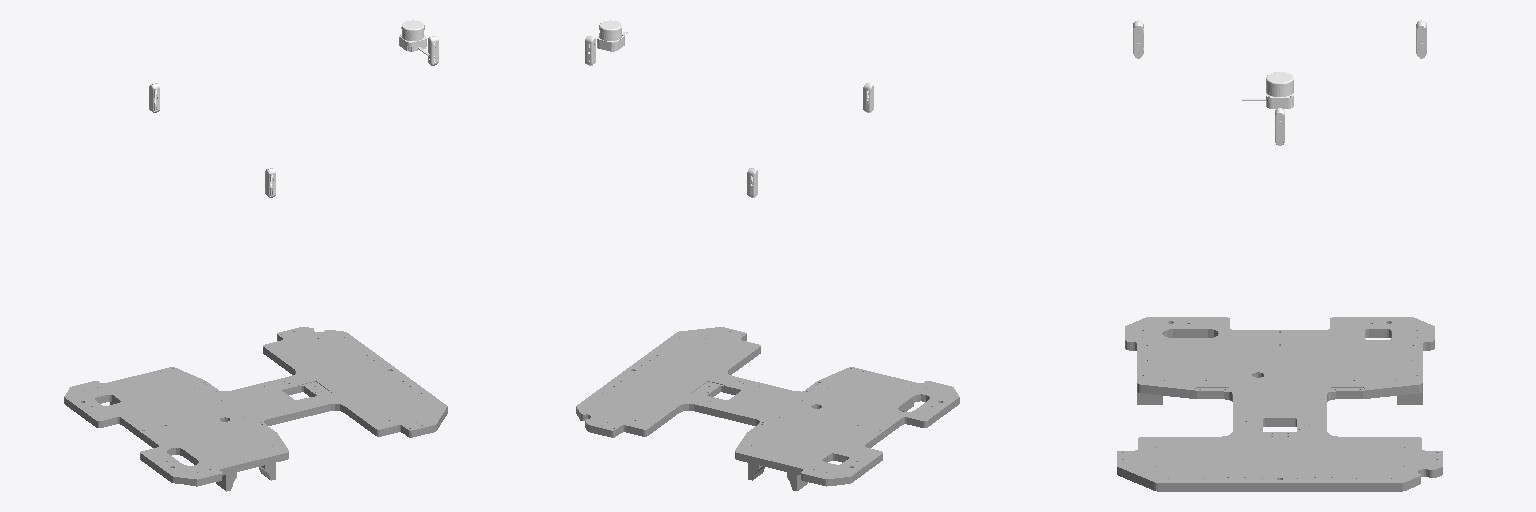
URDF robot description (a26022_clean_robot):
<?xml version="1.0" encoding="utf-8"?>
<!-- This URDF was automatically created by SolidWorks to URDF Exporter! Originally created by Stephen Brawner (brawner@gmail.com) 
     Commit Version: 1.5.1-0-g916b5db  Build Version: 1.5.7152.31018
     For more information, please see http://wiki.ros.org/sw_urdf_exporter -->
<robot name="a26022_clean_robot">
  <link name="base_footprint" />
  <joint name="base_footprint_joint" type="fixed">
    <origin xyz="0 0 0" rpy="0 0 0" />
    <parent link="base_footprint" />
    <child link="base_link" />
  </joint>
  <link
    name="base_link">
    <inertial>
      <origin
        xyz="0.196490826186498 -9.35553781750022E-06 0.280052603248387"
        rpy="0 0 0" />
      <mass
        value="25.3088663609194" />
      <inertia
        ixx="1.00046416956501"
        ixy="7.10447792619379E-05"
        ixz="-0.105698131930891"
        iyy="1.45058994792139"
        iyz="1.97984884068599E-05"
        izz="1.76363762646327" />
    </inertial>
    <visual>
      <origin
        xyz="0 0 0"
        rpy="0 0 0" />
      <geometry>
        <mesh
          filename="package://cleanrobot_description/meshes/a26022/base_link.STL" />
      </geometry>
      <material
        name="">
        <color
          rgba="0.752941176470588 0.752941176470588 0.752941176470588 1" />
      </material>
    </visual>
    <collision>
      <origin
        xyz="0 0 0"
        rpy="0 0 0" />
      <geometry>
        <mesh
          filename="package://cleanrobot_description/meshes/a26022/base_link.STL" />
      </geometry>
    </collision>
  </link>
  <link
    name="left_wheel_link">
    <inertial>
      <origin
        xyz="-0.000177496449434461 -0.0319229440709368 0.000425975292963177"
        rpy="0 0 0" />
      <mass
        value="1.06112992026122" />
      <inertia
        ixx="0.00375826267218946"
        ixy="-1.24034915524197E-05"
        ixz="-4.77579123538151E-06"
        iyy="0.00360047804436064"
        iyz="1.96023661304929E-05"
        izz="0.00390777880698007" />
    </inertial>
    <visual>
      <origin
        xyz="0 0 0"
        rpy="0 0 0" />
      <geometry>
        <mesh
          filename="package://cleanrobot_description/meshes/a26022/left_wheel_link.STL" />
      </geometry>
      <material
        name="">
        <color
          rgba="1 1 1 1" />
      </material>
    </visual>
    <collision>
      <origin
        xyz="0 0 0"
        rpy="0 0 0" />
      <geometry>
        <mesh
          filename="package://cleanrobot_description/meshes/a26022/left_wheel_link.STL" />
      </geometry>
    </collision>
  </link>
  <joint
    name="left_wheel_joint"
    type="fixed">
    <origin
      xyz="0 0.23 0"
      rpy="0 0 0" />
    <parent
      link="base_link" />
    <child
      link="left_wheel_link" />
    <axis
      xyz="0 0 0" />
  </joint>
  <link
    name="right_wheel_link">
    <inertial>
      <origin
        xyz="0.000177496449434128 0.0319229440709367 0.000425975292963066"
        rpy="0 0 0" />
      <mass
        value="1.06112992026122" />
      <inertia
        ixx="0.00375826267218946"
        ixy="-1.24034915524187E-05"
        ixz="4.77579123538122E-06"
        iyy="0.00360047804436064"
        iyz="-1.96023661304912E-05"
        izz="0.00390777880698008" />
    </inertial>
    <visual>
      <origin
        xyz="0 0 0"
        rpy="0 0 0" />
      <geometry>
        <mesh
          filename="package://cleanrobot_description/meshes/a26022/right_wheel_link.STL" />
      </geometry>
      <material
        name="">
        <color
          rgba="1 1 1 1" />
      </material>
    </visual>
    <collision>
      <origin
        xyz="0 0 0"
        rpy="0 0 0" />
      <geometry>
        <mesh
          filename="package://cleanrobot_description/meshes/a26022/right_wheel_link.STL" />
      </geometry>
    </collision>
  </link>
  <joint
    name="right_wheel_joint"
    type="fixed">
    <origin
      xyz="0 -0.23 0"
      rpy="0 0 0" />
    <parent
      link="base_link" />
    <child
      link="right_wheel_link" />
    <axis
      xyz="0 0 0" />
  </joint>
  <link
    name="gyro_link">
    <inertial>
      <origin
        xyz="-5.55111512312578E-17 -1.67810691686865E-17 -0.000733507653597906"
        rpy="0 0 0" />
      <mass
        value="0.140620716682058" />
      <inertia
        ixx="7.21282900021027E-05"
        ixy="6.64032925611099E-21"
        ixz="-2.36980739856974E-21"
        iyy="5.56598991748656E-05"
        iyz="5.45843797695993E-21"
        izz="9.75103372952217E-05" />
    </inertial>
    <visual>
      <origin
        xyz="0 0 0"
        rpy="0 0 0" />
      <geometry>
        <mesh
          filename="package://cleanrobot_description/meshes/a26022/gyro_link.STL" />
      </geometry>
      <material
        name="">
        <color
          rgba="1 1 1 1" />
      </material>
    </visual>
    <collision>
      <origin
        xyz="0 0 0"
        rpy="0 0 0" />
      <geometry>
        <mesh
          filename="package://cleanrobot_description/meshes/a26022/gyro_link.STL" />
      </geometry>
    </collision>
  </link>
  <joint
    name="gyro_joint"
    type="fixed">
    <origin
      xyz="0.502 0 0.385"
      rpy="0 0 0" />
    <parent
      link="base_link" />
    <child
      link="gyro_link" />
    <axis
      xyz="0 0 0" />
  </joint>
  <link
    name="laser">
    <inertial>
      <origin
        xyz="2.95092711307121E-05 -1.74498448169635E-07 -0.0156131409395789"
        rpy="0 0 0" />
      <mass
        value="0.108631598127293" />
      <inertia
        ixx="4.26587363028909E-05"
        ixy="1.21745038868189E-10"
        ixz="-2.09117590861523E-08"
        iyy="4.26596479187506E-05"
        iyz="4.87004859337588E-10"
        izz="4.01202971317793E-05" />
    </inertial>
    <visual>
      <origin
        xyz="0 0 0"
        rpy="0 0 0" />
      <geometry>
        <mesh
          filename="package://cleanrobot_description/meshes/a26022/laser.STL" />
      </geometry>
      <material
        name="">
        <color
          rgba="1 1 1 1" />
      </material>
    </visual>
    <collision>
      <origin
        xyz="0 0 0"
        rpy="0 0 0" />
      <geometry>
        <mesh
          filename="package://cleanrobot_description/meshes/a26022/laser.STL" />
      </geometry>
    </collision>
  </link>
  <joint
    name="laser_joint"
    type="fixed">
    <origin
      xyz="0.50195 0 1.0503"
      rpy="0 0 0" />
    <parent
      link="base_link" />
    <child
      link="laser" />
    <axis
      xyz="0 0 0" />
  </joint>
  <link
    name="left_camera">
    <inertial>
      <origin
        xyz="-0.00037591 -0.00051252 -0.0094233"
        rpy="0 0 0" />
      <mass
        value="0.046" />
      <inertia
        ixx="2.1183E-05"
        ixy="-6.4838E-07"
        ixz="1.156E-07"
        iyy="4.5653E-05"
        iyz="-1.6564E-08"
        izz="6.5065E-05" />
    </inertial>
    <visual>
      <origin
        xyz="0 0 0"
        rpy="0 0 0" />
      <geometry>
        <mesh
          filename="package://cleanrobot_description/meshes/left_camera.STL" />
      </geometry>
      <material
        name="">
        <color
          rgba="1 1 1 1" />
      </material>
    </visual>
    <collision>
      <origin
        xyz="0 0 0"
        rpy="0 0 0" />
      <geometry>
        <mesh
          filename="package://cleanrobot_description/meshes/left_camera.STL" />
      </geometry>
    </collision>
  </link>
  <joint
    name="left_camera_joint"
    type="fixed">
    <origin
      xyz="-0.13292 0.32478 0.8656"
      rpy="0 0 0" />
    <parent
      link="base_link" />
    <child
      link="left_camera" />
    <axis
      xyz="0 0 0" />
  </joint>
  <link
    name="gemini_cf_link" />
  <!-- Calibrated from the observed floor plane.
       Roll/pitch/height follow the corrected 2026-06-19 serial mapping;
       yaw stays with the CAD left-side mounting direction. -->
  <joint
    name="gemini_cf_mount"
    type="fixed">
    <origin
      xyz="-0.13292 0.32478 0.910841616448"
      rpy="-1.10771564304 0.70386486547 0.807282164799" />
    <parent
      link="base_link" />
    <child
      link="gemini_cf_link" />
  </joint>
  <link
    name="right_camera">
    <inertial>
      <origin
        xyz="-0.00037591 0.00051252 -0.0094233"
        rpy="0 0 0" />
      <mass
        value="0.046" />
      <inertia
        ixx="2.1183E-05"
        ixy="6.4838E-07"
        ixz="1.156E-07"
        iyy="4.5653E-05"
        iyz="1.6564E-08"
        izz="6.5065E-05" />
    </inertial>
    <visual>
      <origin
        xyz="0 0 0"
        rpy="0 0 0" />
      <geometry>
        <mesh
          filename="package://cleanrobot_description/meshes/right_camera.STL" />
      </geometry>
      <material
        name="">
        <color
          rgba="1 1 1 1" />
      </material>
    </visual>
    <collision>
      <origin
        xyz="0 0 0"
        rpy="0 0 0" />
      <geometry>
        <mesh
          filename="package://cleanrobot_description/meshes/right_camera.STL" />
      </geometry>
    </collision>
  </link>
  <joint
    name="right_camera_joint"
    type="fixed">
    <origin
      xyz="-0.13292 -0.32478 0.8656"
      rpy="0 0 0" />
    <parent
      link="base_link" />
    <child
      link="right_camera" />
    <axis
      xyz="0 0 0" />
  </joint>
  <link
    name="gemini_nj_link" />
  <!-- Calibrated from the observed floor plane.
       Roll/pitch/height follow the corrected 2026-06-19 serial mapping;
       yaw stays with the CAD right-side mounting direction. -->
  <joint
    name="gemini_nj_mount"
    type="fixed">
    <origin
      xyz="-0.13292 -0.32478 0.949244255794"
      rpy="1.10708972437 0.665196470572 -0.814678120843" />
    <parent
      link="base_link" />
    <child
      link="gemini_nj_link" />
  </joint>
  <link
    name="up_camera">
    <inertial>
      <origin
        xyz="-7.8063E-18 0 -1.0042E-15"
        rpy="0 0 0" />
      <mass
        value="0.17239" />
      <inertia
        ixx="6.0873E-05"
        ixy="-1.0164E-19"
        ixz="-2.4657E-20"
        iyy="0.00040027"
        iyz="1.6777E-19"
        izz="0.00044366" />
    </inertial>
    <visual>
      <origin
        xyz="0 0 0"
        rpy="0 0 0" />
      <geometry>
        <mesh
          filename="package://cleanrobot_description/meshes/up_camera.STL" />
      </geometry>
      <material
        name="">
        <color
          rgba="1 1 1 1" />
      </material>
    </visual>
    <collision>
      <origin
        xyz="0 0 0"
        rpy="0 0 0" />
      <geometry>
        <mesh
          filename="package://cleanrobot_description/meshes/up_camera.STL" />
      </geometry>
    </collision>
  </link>
  <joint
    name="up_camera_joint"
    type="fixed">
    <origin
      xyz="0.57945 0 0.97641"
      rpy="0 0 0" />
    <parent
      link="base_link" />
    <child
      link="up_camera" />
    <axis
      xyz="0 0 0" />
  </joint>
  <link
    name="gemini_front_link" />
  <!-- Front Gemini 2 L depth optical mount calibrated from the observed floor
       plane on 2026-07-08. With base_link at the wheel axle, the fitted floor
       is z=-0.080 m; keep CAD height and correct only roll/pitch. -->
  <joint
    name="gemini_front_mount"
    type="fixed">
    <origin
      xyz="0.57945 0 0.97641"
      rpy="0.0038898 0.8874465 0" />
    <parent
      link="base_link" />
    <child
      link="gemini_front_link" />
  </joint>
</robot>

--- What the picture shows (computed from the rendered views, not written in the file) ---
3 views of the same robot in one strip: view 1: azimuth 30°, elevation 25°; view 2: azimuth 150°, elevation 25°; view 3: azimuth 270°, elevation 25° (orthographic).
Model a26022_clean_robot with 12 links and 11 joints (11 fixed), rooted at base_footprint, posed all joints at 0.
Links seen in each view (by area): view 1: base_link, laser; view 2: base_link, laser; view 3: base_link, laser.
Boxes of the visible links, x1,y1,x2,y2 form: base_link: (64,327,447,491); laser: (399,20,429,55); base_link: (576,327,959,490); laser: (597,20,627,51); base_link: (1117,317,1442,491); laser: (1242,72,1293,108).
Size in the robot's own frame: 1.03 by 0.75 by 1.12 metres.
Meshes: 8 distinct files referenced, 5 mesh visuals loaded (5 binary STL); not drawn: 3 (reference not matched to a file when rendering).
